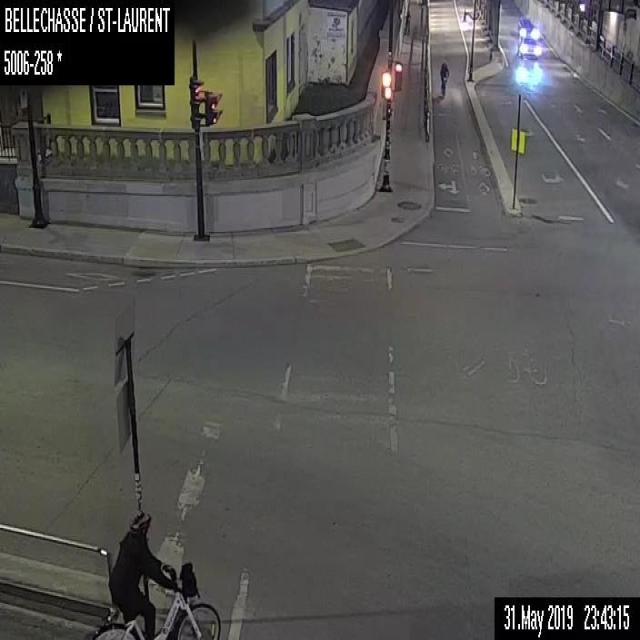cyclist: (91, 511, 220, 638), (439, 62, 448, 98)
pedestrian: (403, 10, 410, 34)
vehicle: (517, 36, 538, 59), (517, 18, 538, 39)
